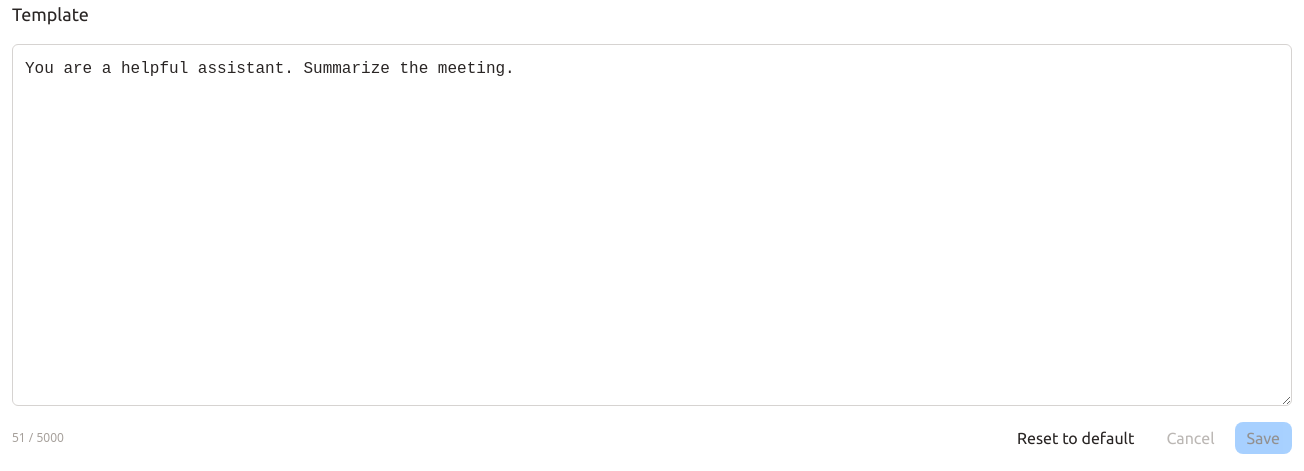
TemplateSection › Cancel resets the textarea to the original value
The width and height of the screenshot is (1304, 471).
Type " Extra text." into the text box at (652, 225), box [12,44,1292,406]
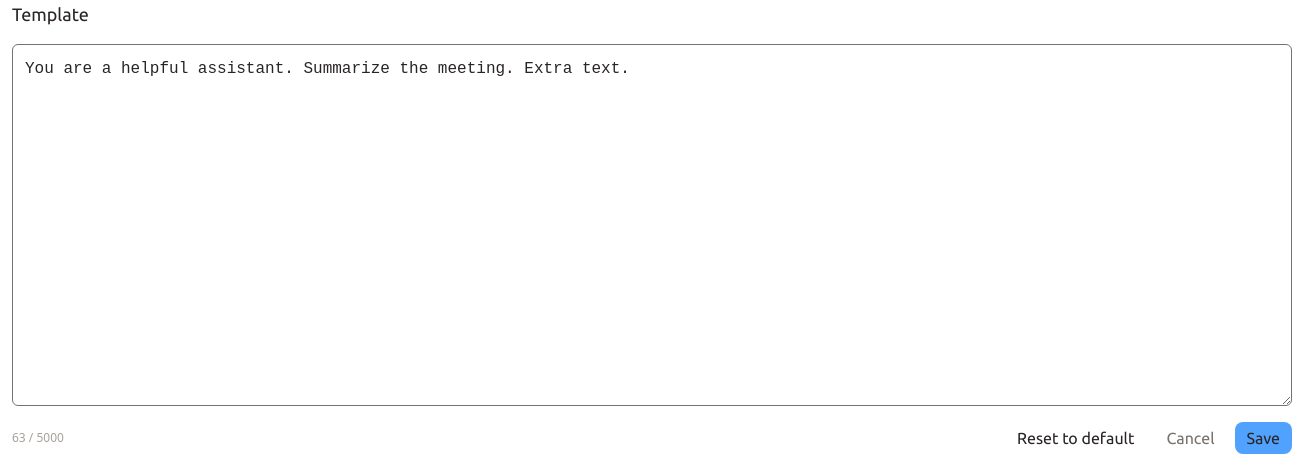
Click the button "Cancel" at (1190, 438), box [1154,422,1227,454]
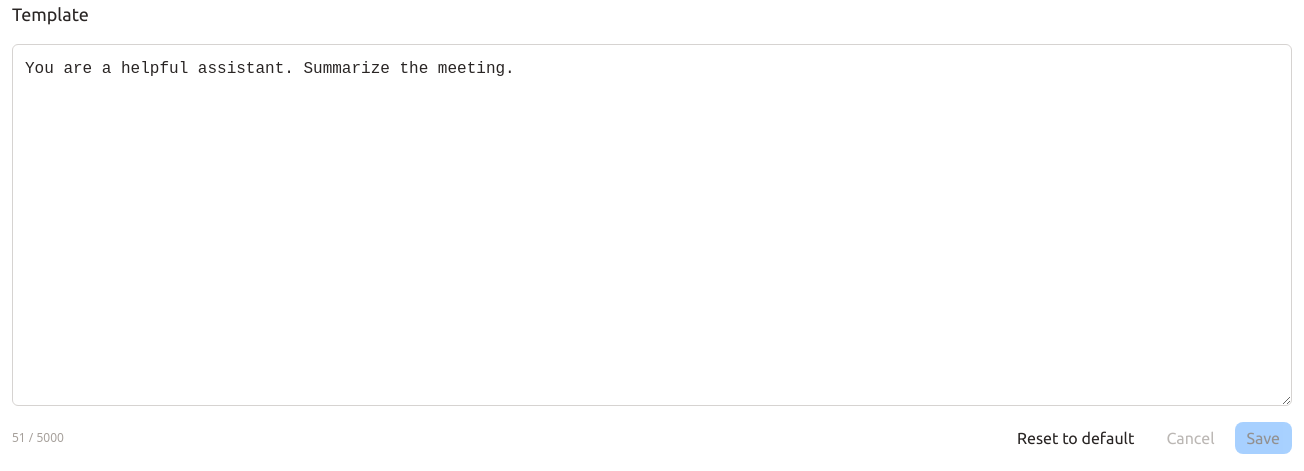
Expected: the text box holds "You are a helpful assistant. Summarize the meeting."
Expected: the button "Save" is disabled, [1235,422,1292,454]
